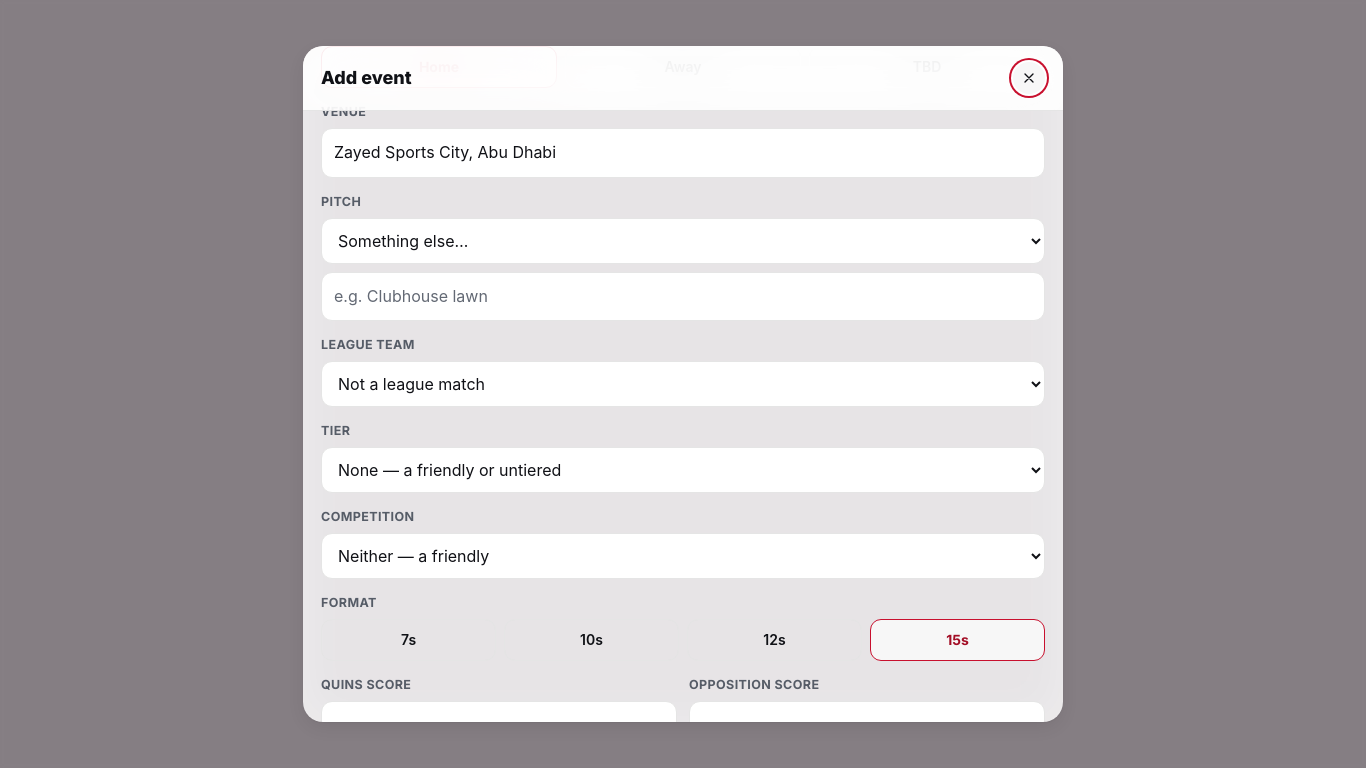
Test: EventForm — the league team field › ⚠️ ROUND BELONGS TO THE COMPETITION, NOT TO THE LEAGUE TEAM
(page scrolled)
Check: the field labelled "round" is not shown
Note: A league TEAM alone is not enough any more.
Select "ADHQ2 — Div B" in the dropdown labelled "League team" at {"x": 683, "y": 384}, box [321,361,1045,407]
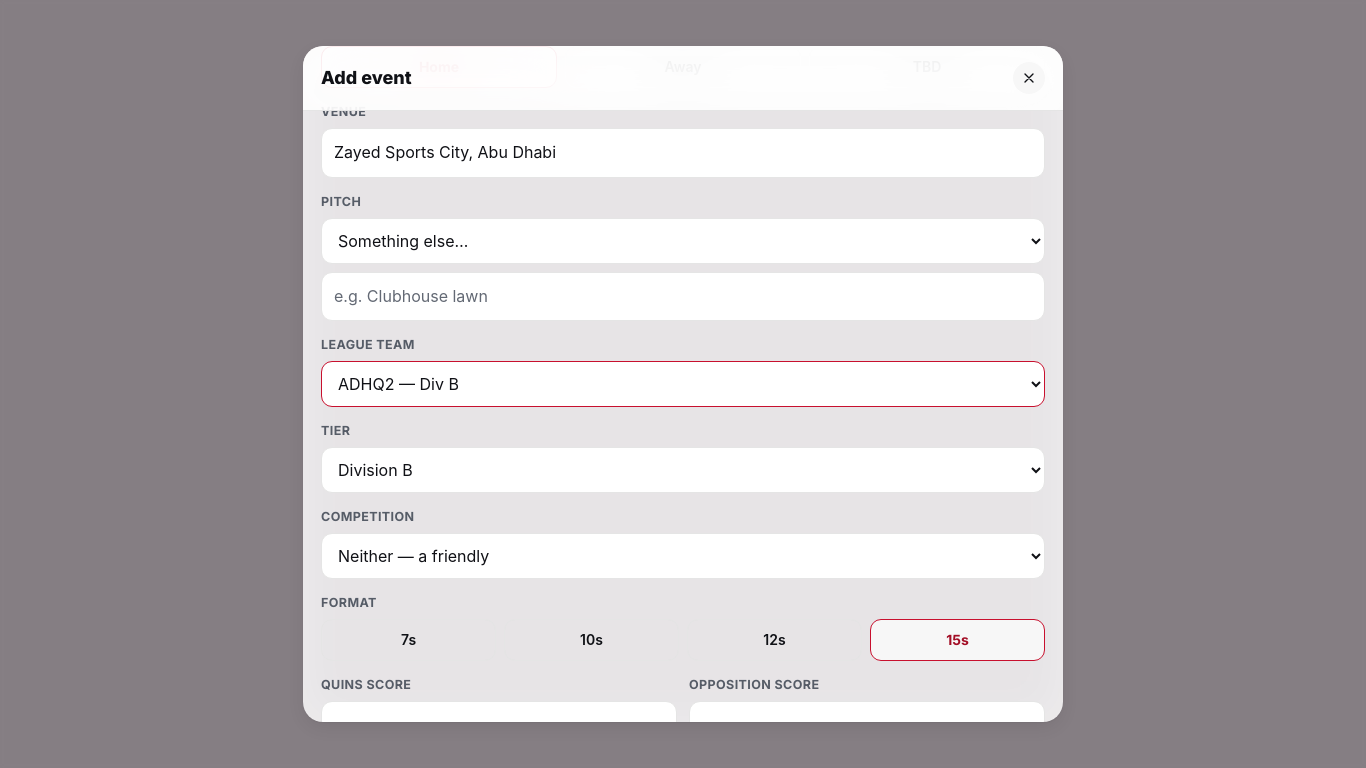
Check: the field labelled "round" is not shown
Note: The competition is what brings it out.
Select "League" in the dropdown labelled "Competition" at {"x": 683, "y": 556}, box [321,533,1045,579]
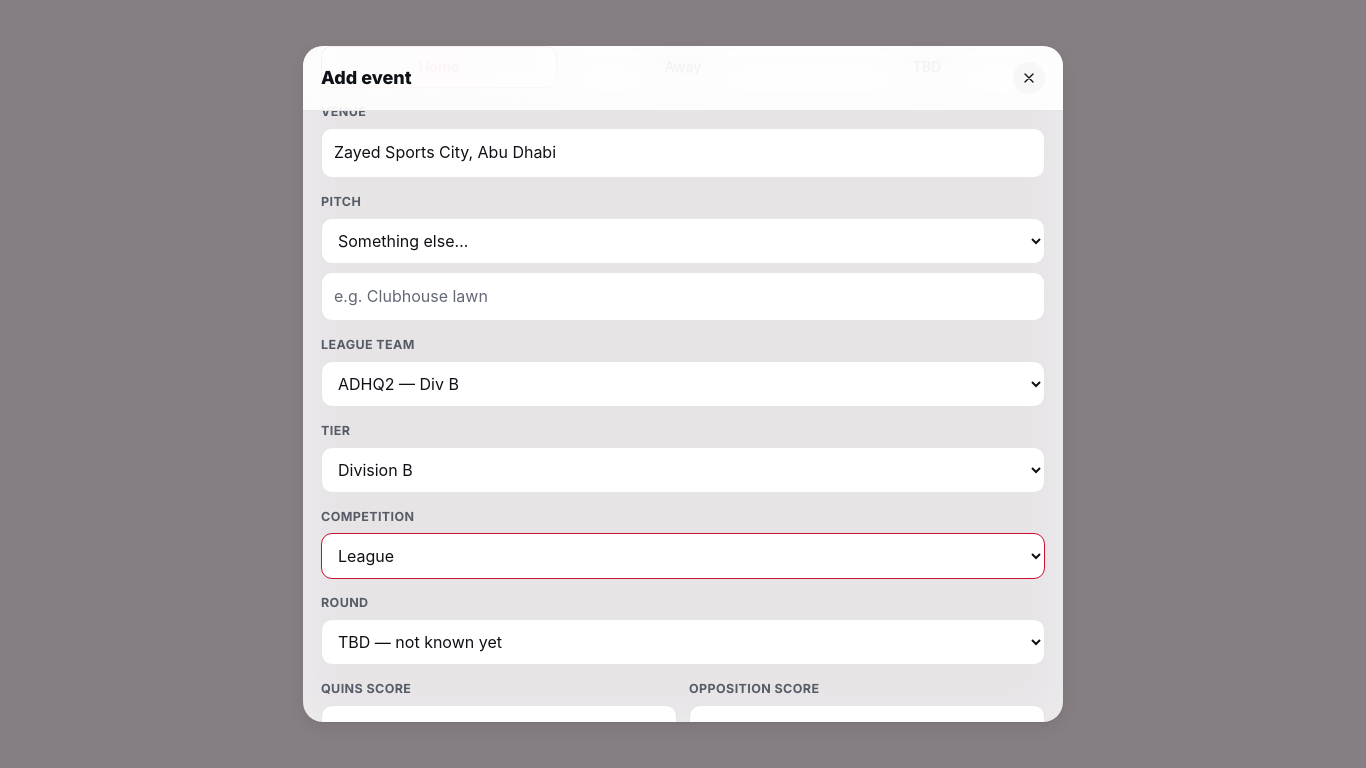
Check: the dropdown labelled "Round" is shown, box [321,619,1045,665]
